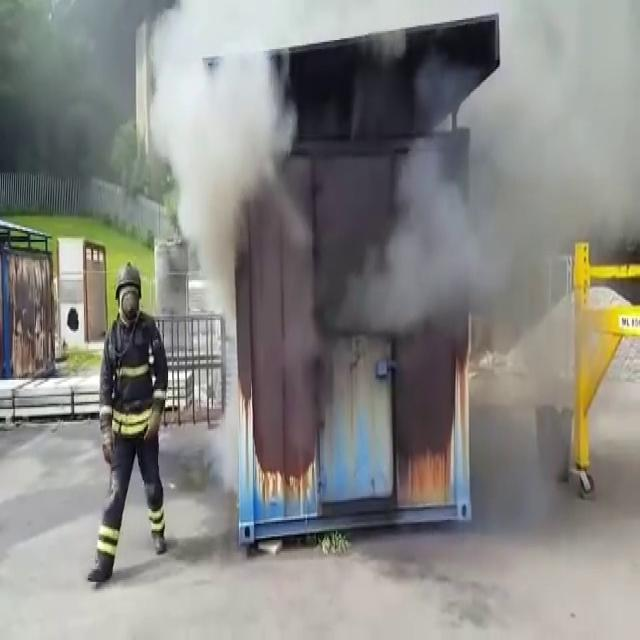Smoke: (398, 0, 633, 277), (148, 0, 272, 256)
